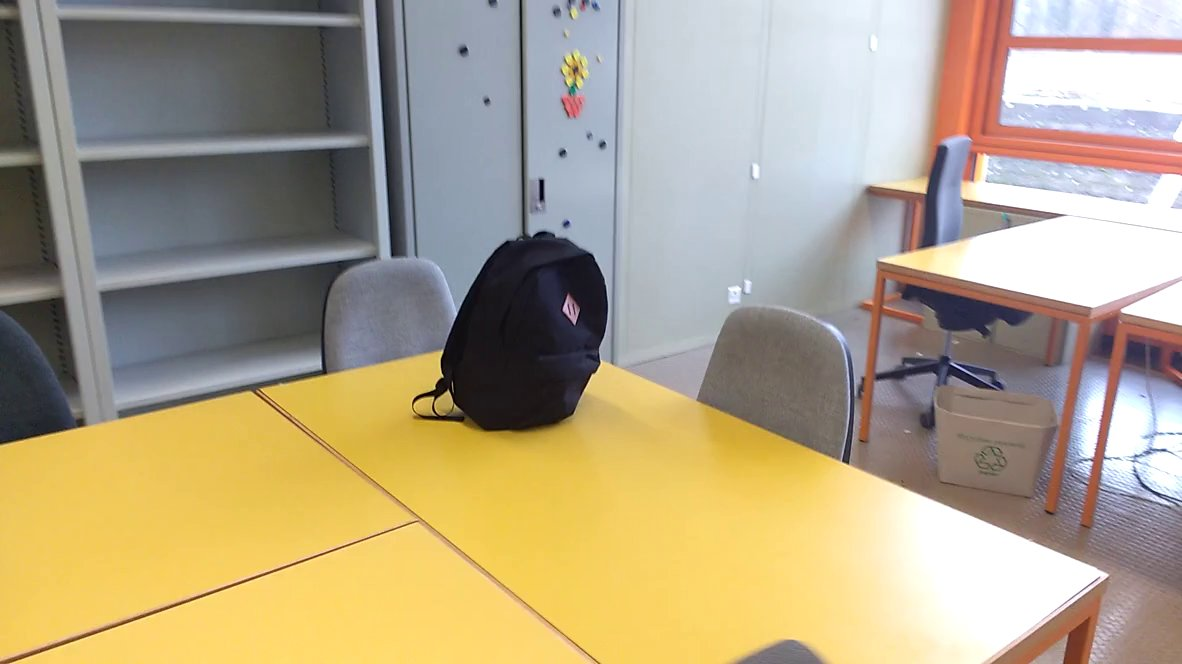bag: (409, 224, 616, 436)
box: (925, 376, 1062, 511)
chair: (871, 127, 1044, 429), (680, 297, 873, 487), (295, 245, 471, 380)
